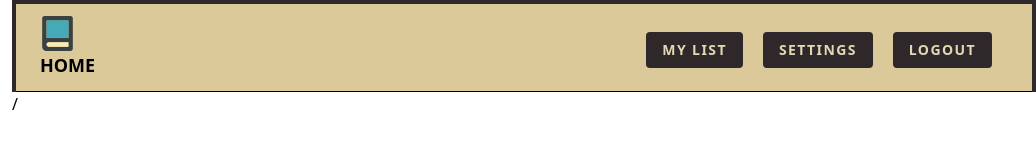
it: test for header › should render "My List" button which navigates to the book list page
The width and height of the screenshot is (1036, 160).
Click the link "My list".
click(695, 50)  # box [646,32,743,68]
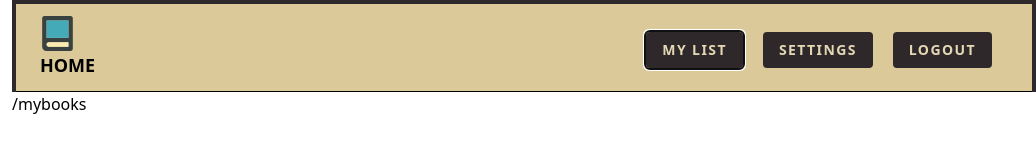
Check: the text "/mybooks" is shown, box [12,93,86,115]
